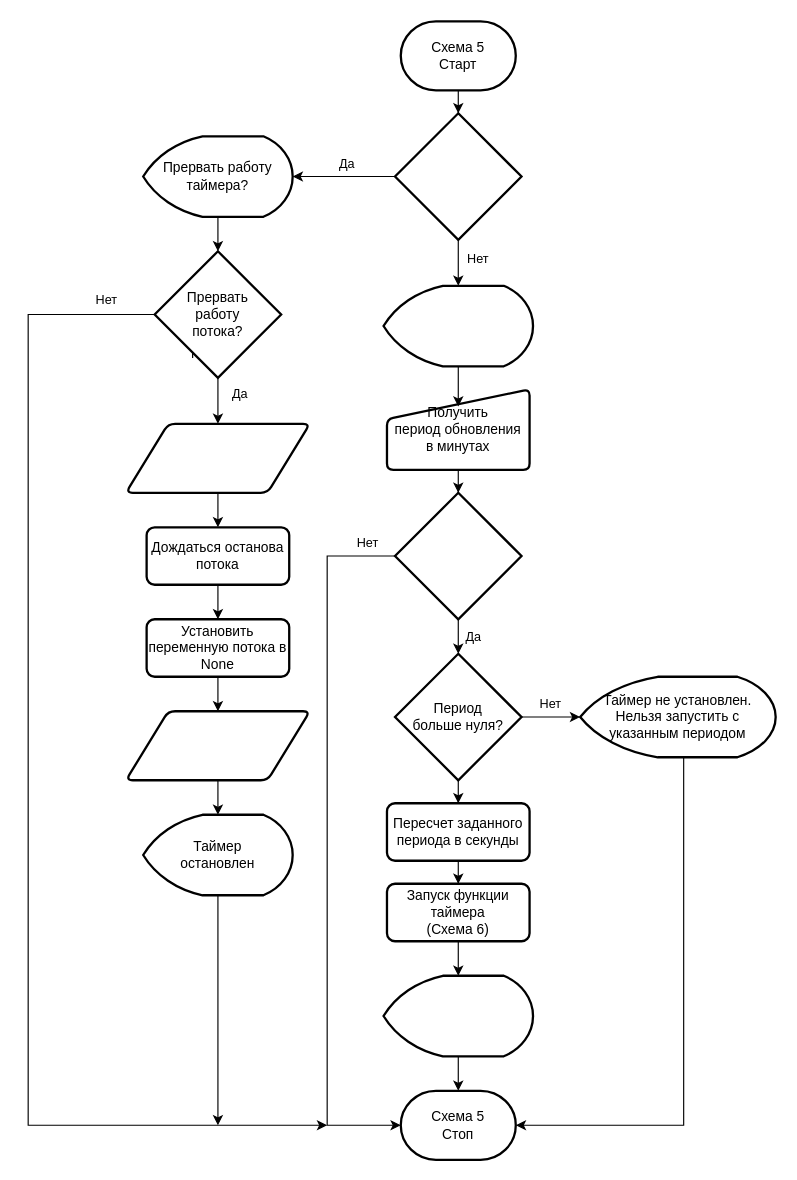
Image size: 797x1180. Some labels were removed from this diagram. Each missing label, with the centre of its shape:
"Задайте период обновления в минутах" goes at pixel 458 325.
"Очистить флаг останова потока" goes at pixel 217 745.
"Период задан?" goes at pixel 457 555.
"Поток обновления избранного запущен?" goes at pixel 457 176.
"Таймер запущен с заданным периодом" goes at pixel 458 1015.
"Устанавливаем флаг останова потока" goes at pixel 217 457.
